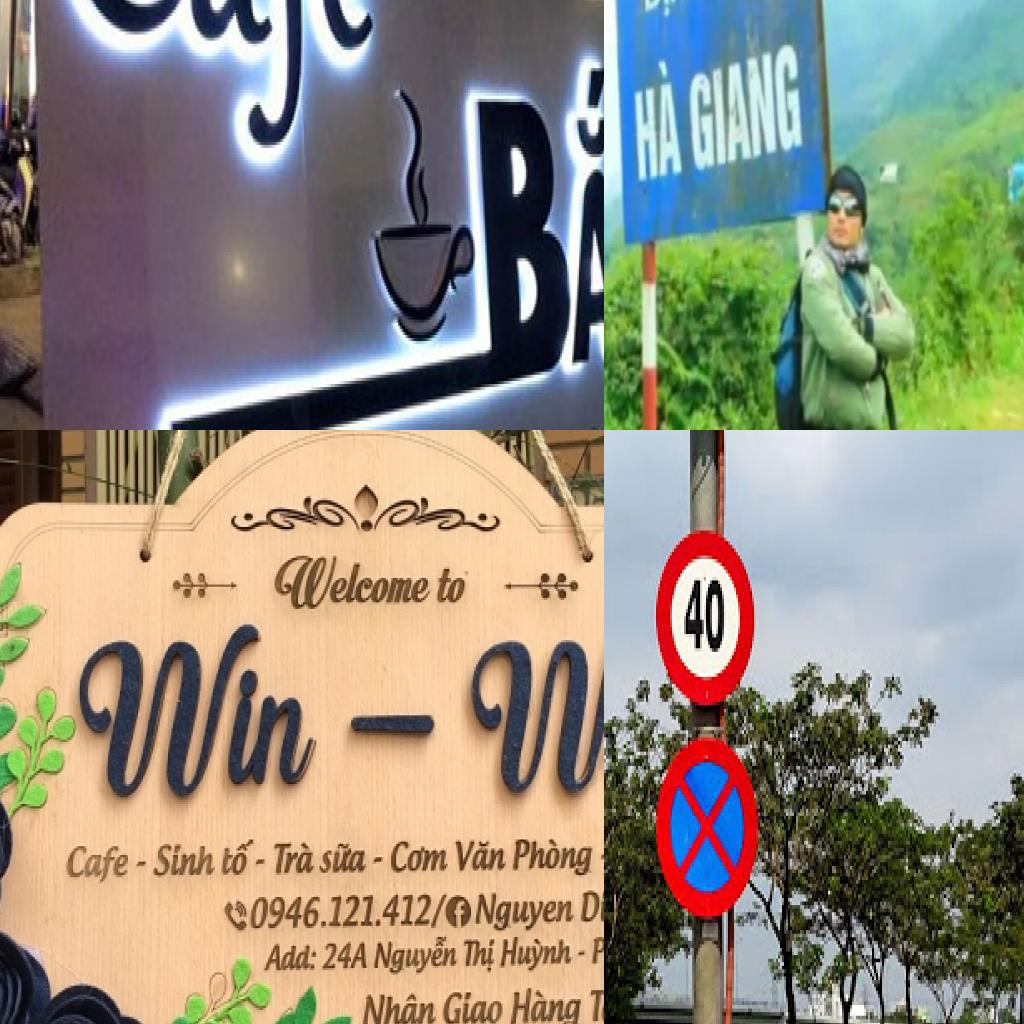text: (48, 0, 389, 184), (464, 65, 604, 402), (75, 620, 318, 806), (464, 617, 604, 799), (685, 35, 806, 173), (273, 549, 433, 613), (248, 888, 434, 933), (630, 50, 688, 188), (474, 890, 580, 935), (371, 933, 461, 979), (509, 833, 596, 879), (682, 580, 728, 659), (505, 983, 584, 1024), (63, 842, 136, 886), (498, 935, 574, 977), (361, 986, 439, 1024), (153, 837, 218, 882), (440, 985, 509, 1024), (261, 937, 321, 977), (391, 837, 450, 877), (456, 833, 509, 875), (318, 934, 369, 974), (271, 835, 316, 879), (318, 840, 369, 877), (220, 837, 258, 882), (434, 564, 473, 606), (461, 935, 499, 977), (636, 0, 690, 25), (575, 886, 604, 926), (430, 893, 450, 930), (449, 895, 471, 928), (587, 983, 604, 1024), (589, 930, 604, 970)
